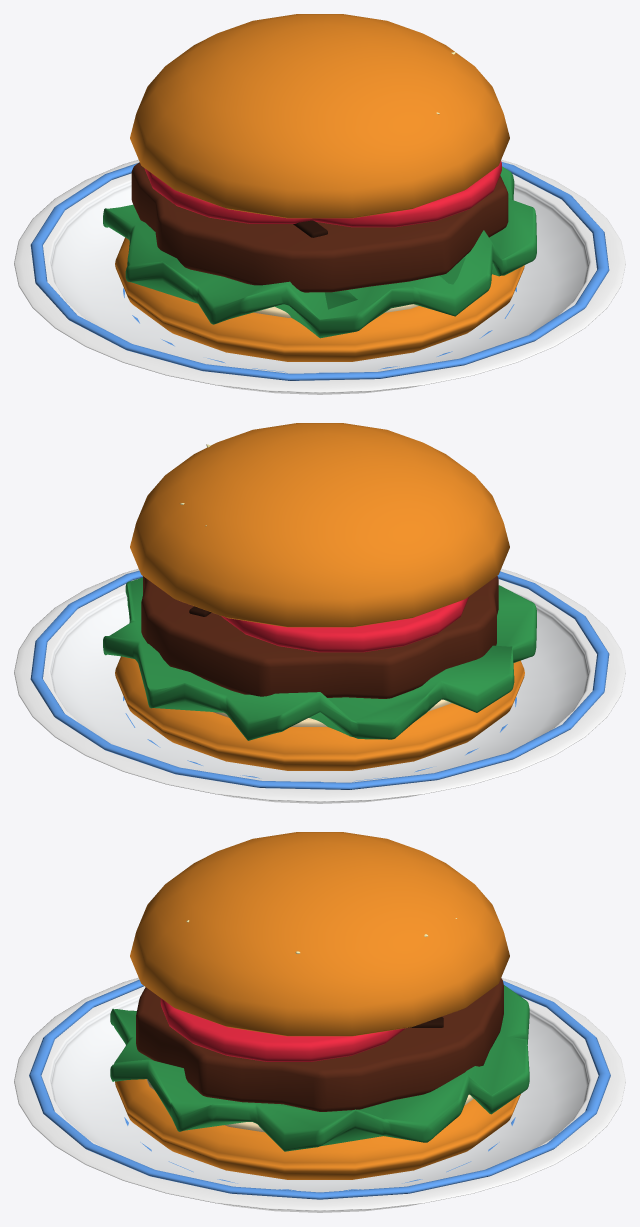
File: burger.glb
The picture shows the model from 3 angles, top to bottom: view 1: azimuth 30°, elevation 25°; view 2: azimuth 150°, elevation 25°; view 3: azimuth 270°, elevation 25°; orthographic projection.
Parts seen in each view (by area): view 1: PlateBody; view 2: PlateBody; view 3: PlateBody.
Part boxes in pixels (left/top/right/bottom): PlateBody: left=14, top=14, right=625, bottom=394; PlateBody: left=14, top=423, right=625, bottom=803; PlateBody: left=14, top=832, right=625, bottom=1212.
Bounding box in the file's own units: 0.6919 × 0.3384 × 0.6919.
